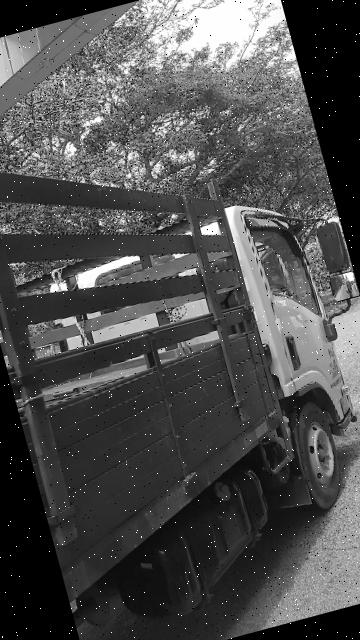lorry: (1, 57, 360, 640)
